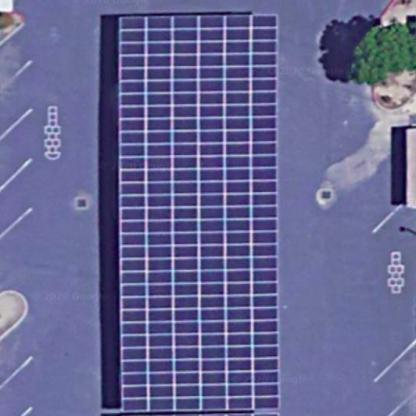solar_panel: (111, 6, 295, 416)
